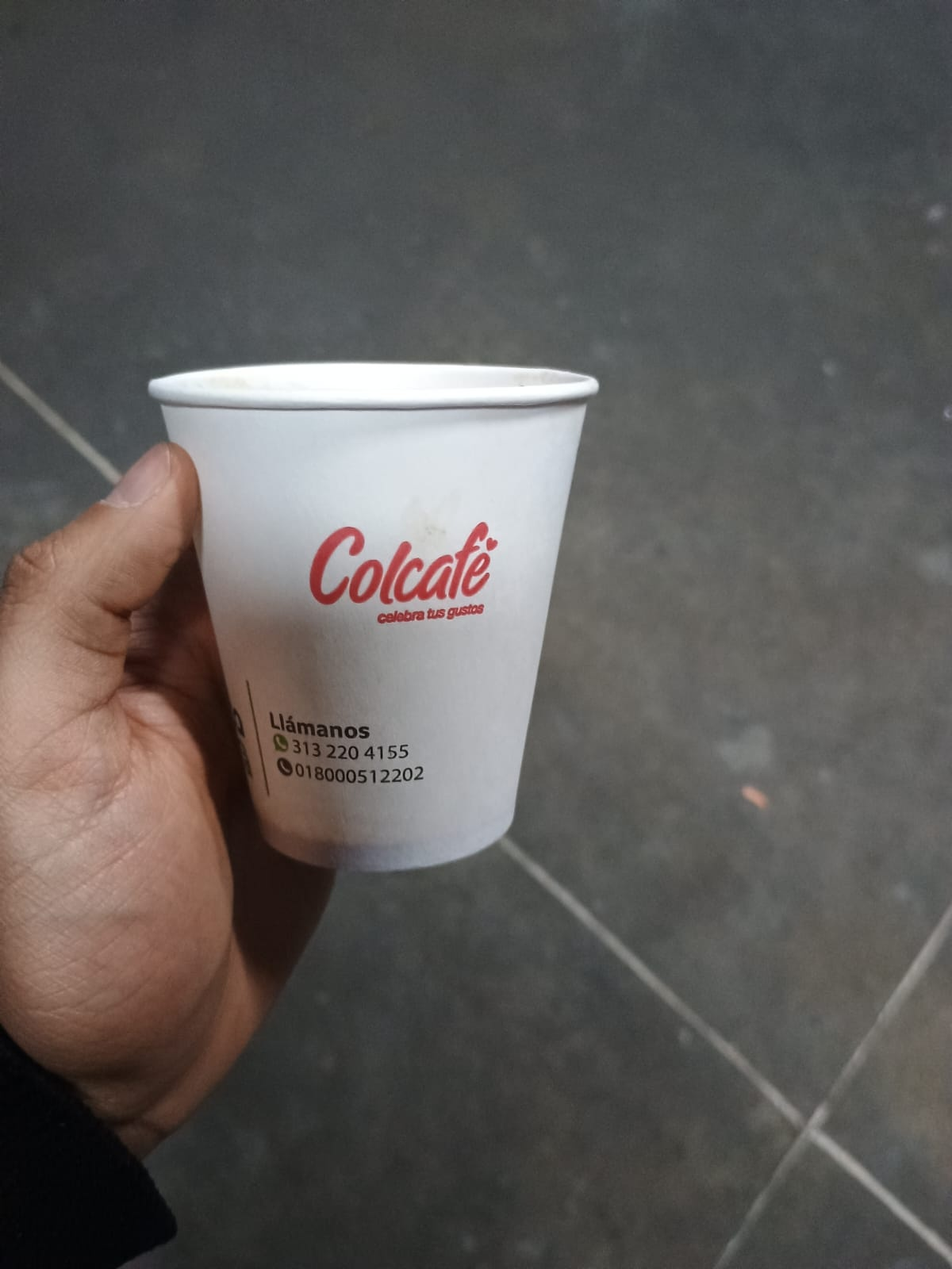Carton: (150, 359, 600, 874)
